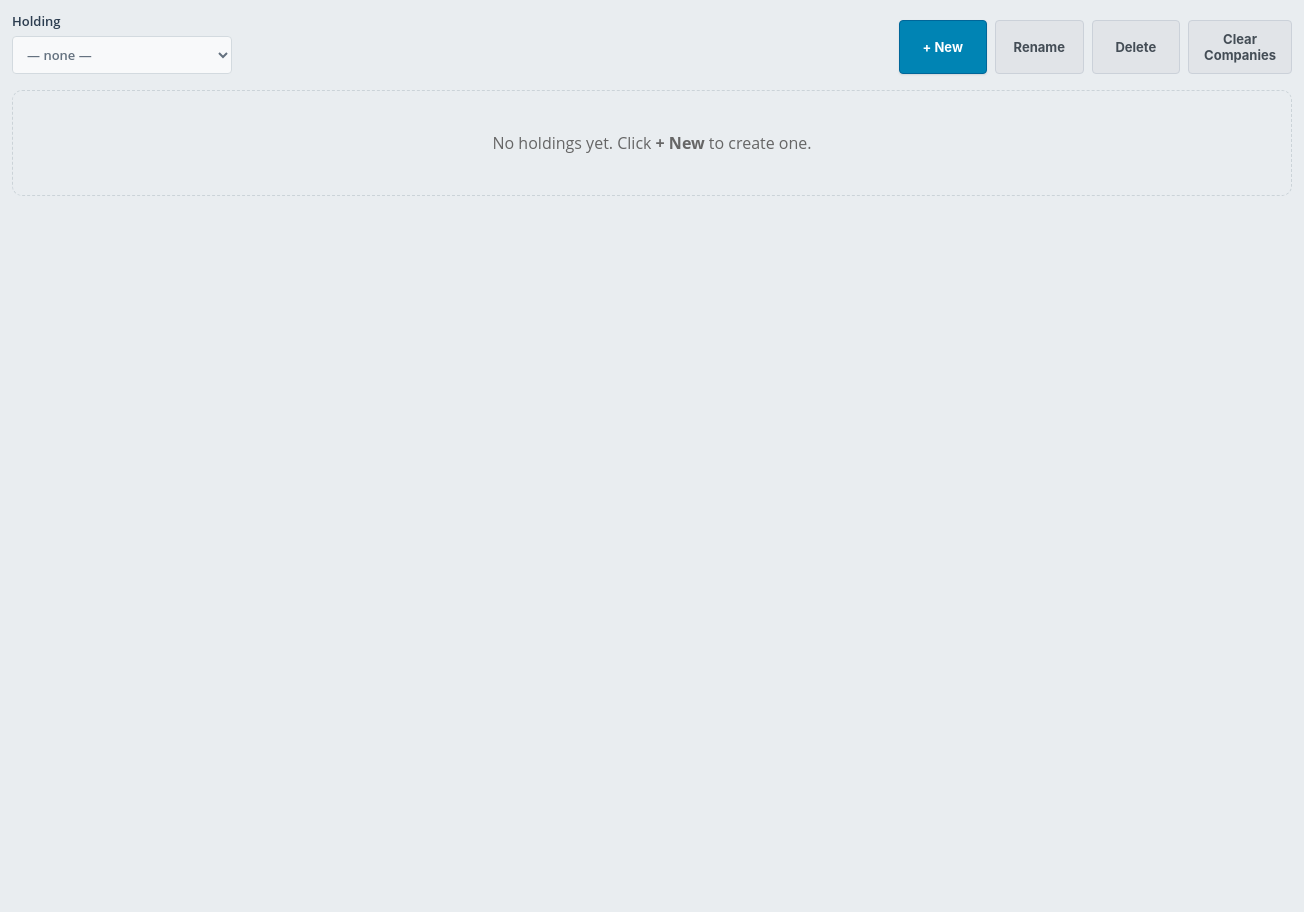
HoldingsView › adds a company in a holding industry and reflects it in the summary
What coordinates should you click on to do the following:
click the button "+ New"
I would click on:
 (943, 46)
Its box is [898,20,987,74].
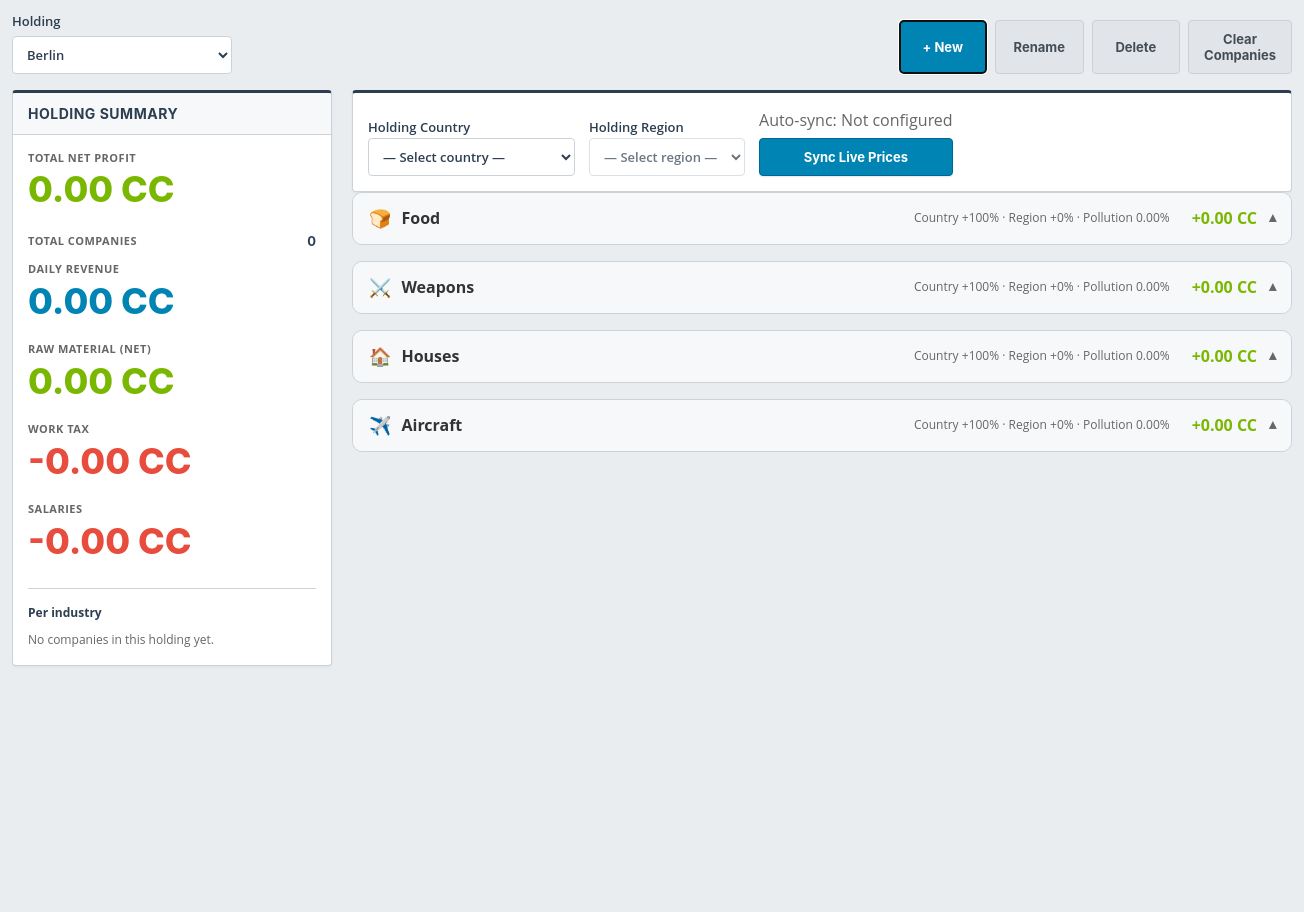
What coordinates should you click on to do the following:
click the element with class "hld-section-head" that starts with "Food"
I would click on:
 (822, 218)
Its box is [353,192,1291,244].
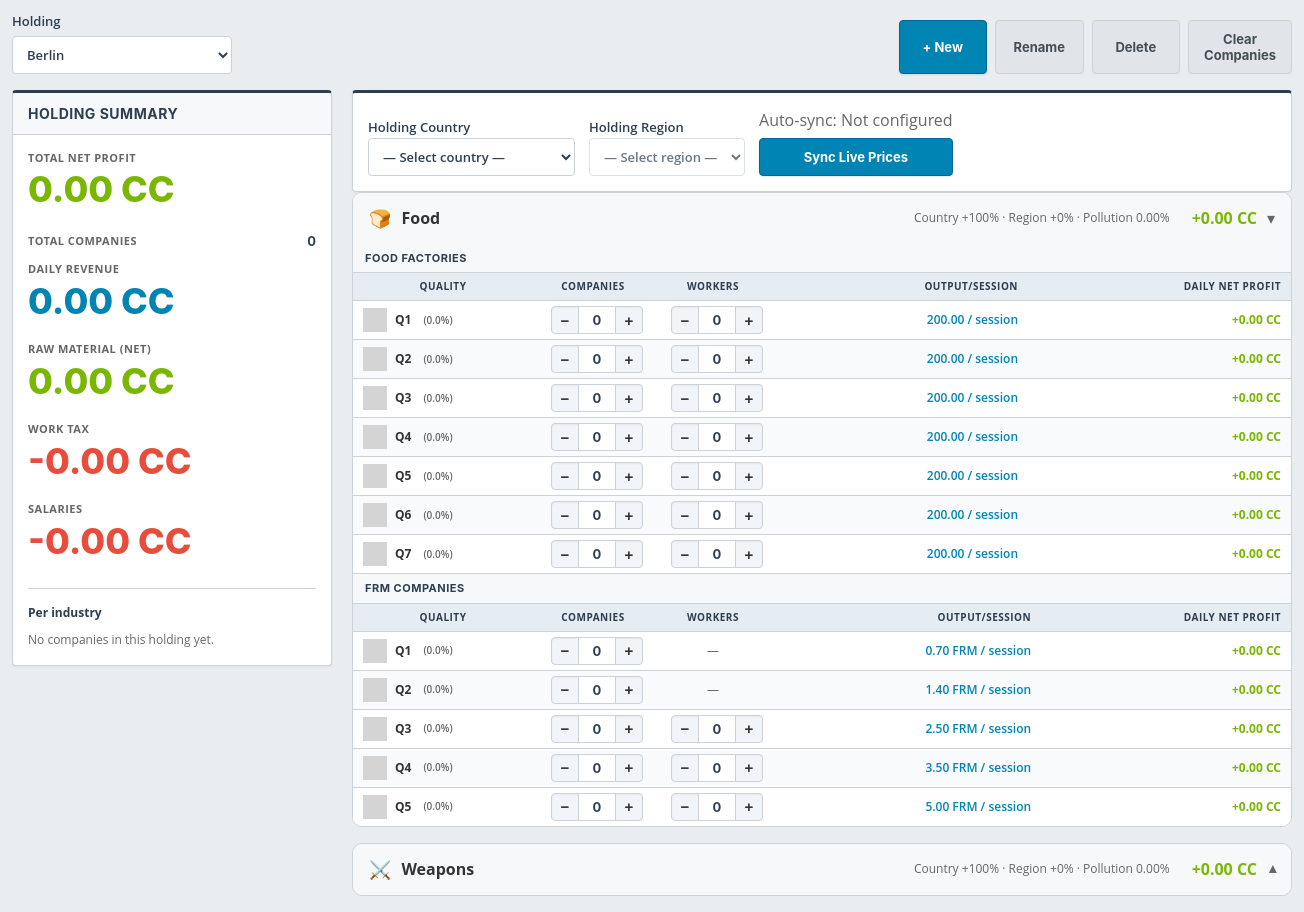
What coordinates should you click on to do the following:
click the button named "Companies plus"
I would click on:
 (629, 320)
Its box is [616,307,642,333].
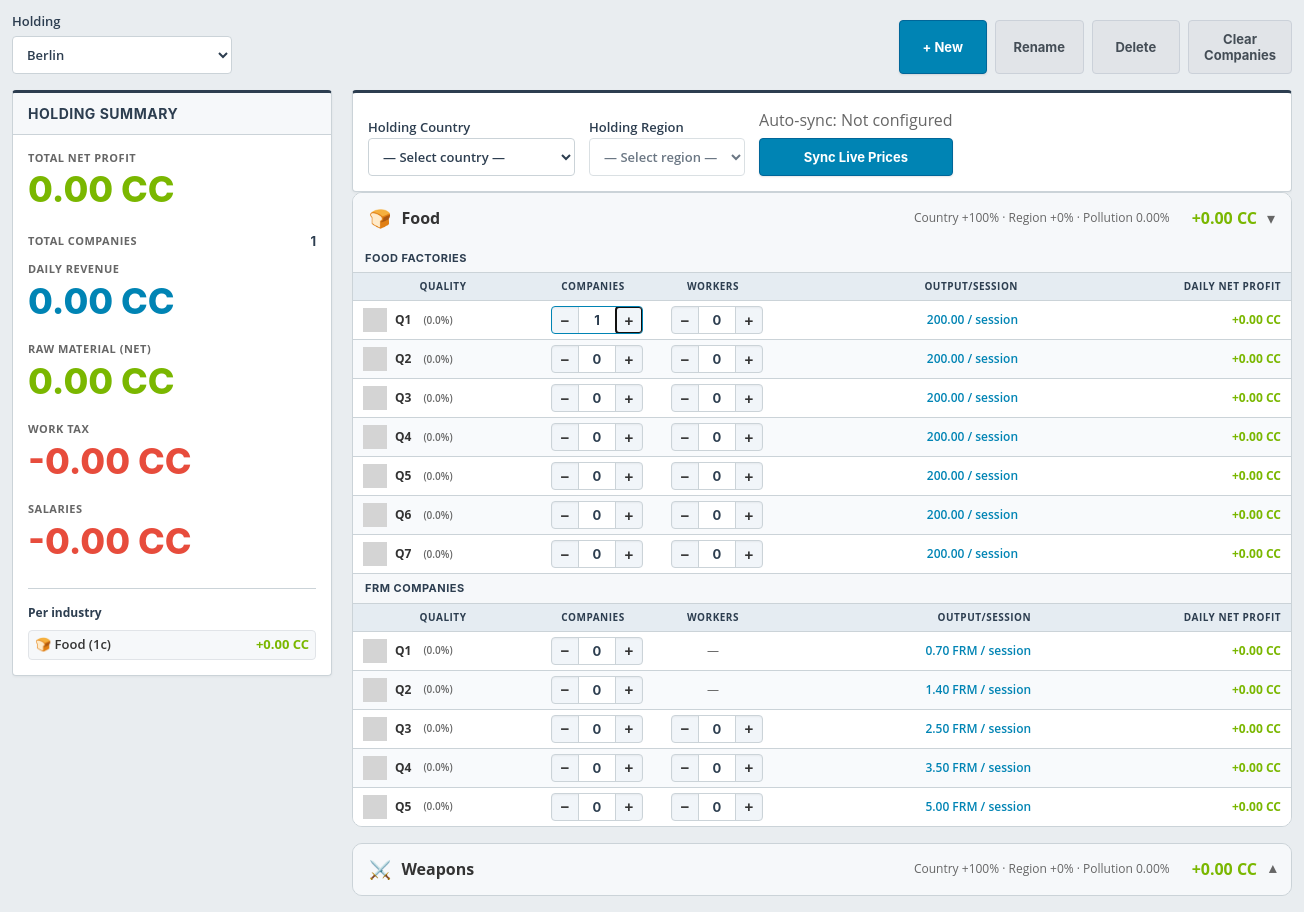
Now the text with test id "hld-total-companies" reads "1", box [310,233,316,249]
